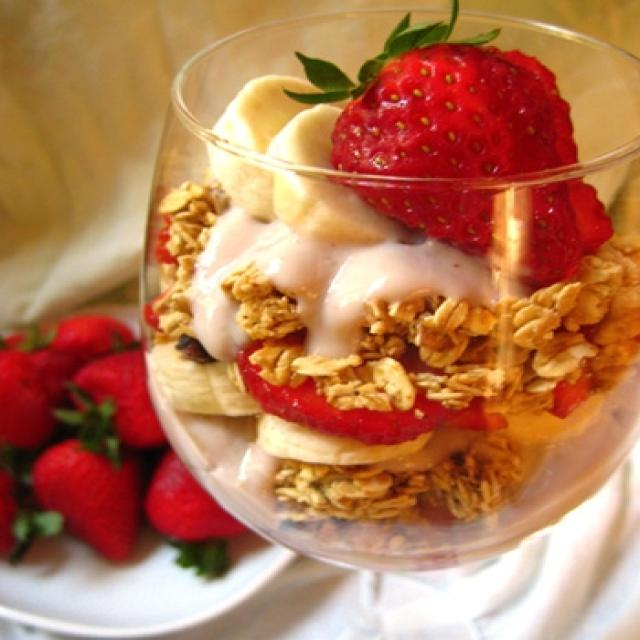蛋糕甜品: (31, 9, 627, 594)
